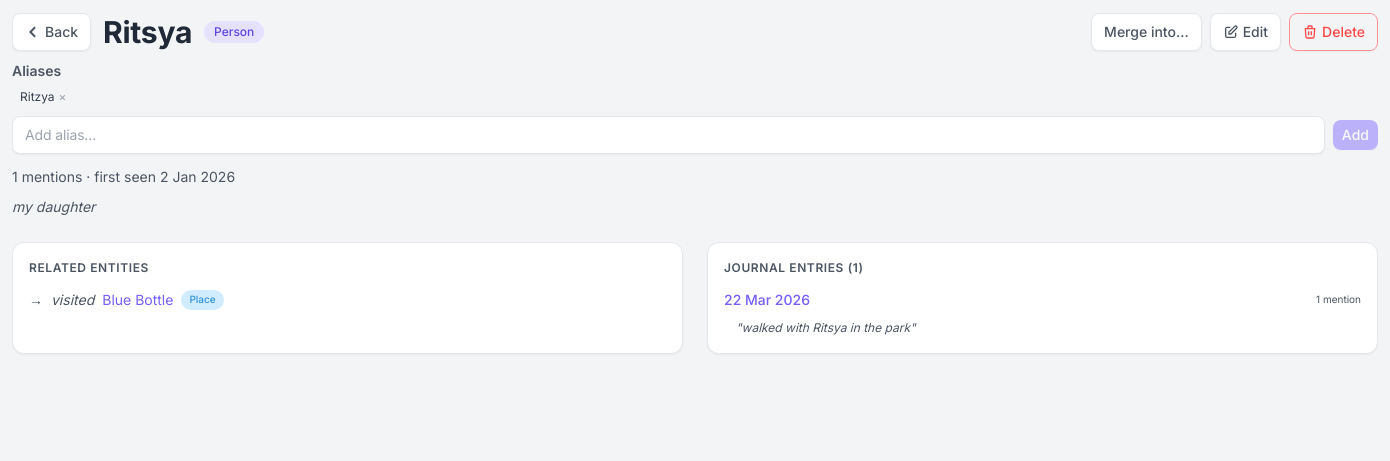
Test: EntityDetailView › opens edit form when edit button is clicked
Click the button with test id "edit-button": x=1245, y=32 [1210, 13, 1281, 51]
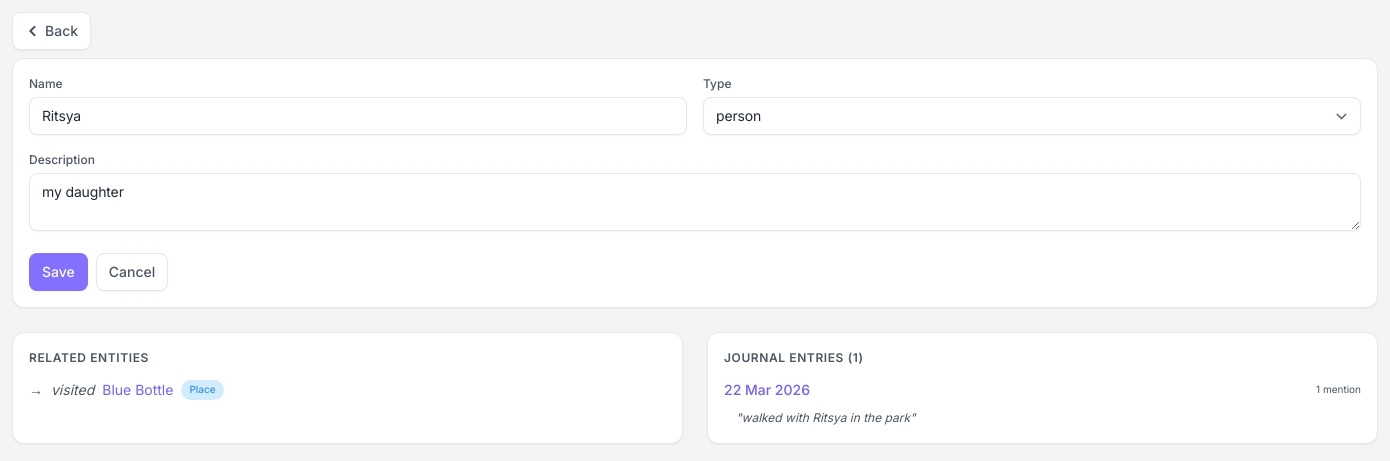
Check: the element with test id "edit-form" is shown, box [12, 58, 1378, 308]
Check: the field with test id "edit-name-input" holds "Ritsya", box [29, 97, 687, 135]
